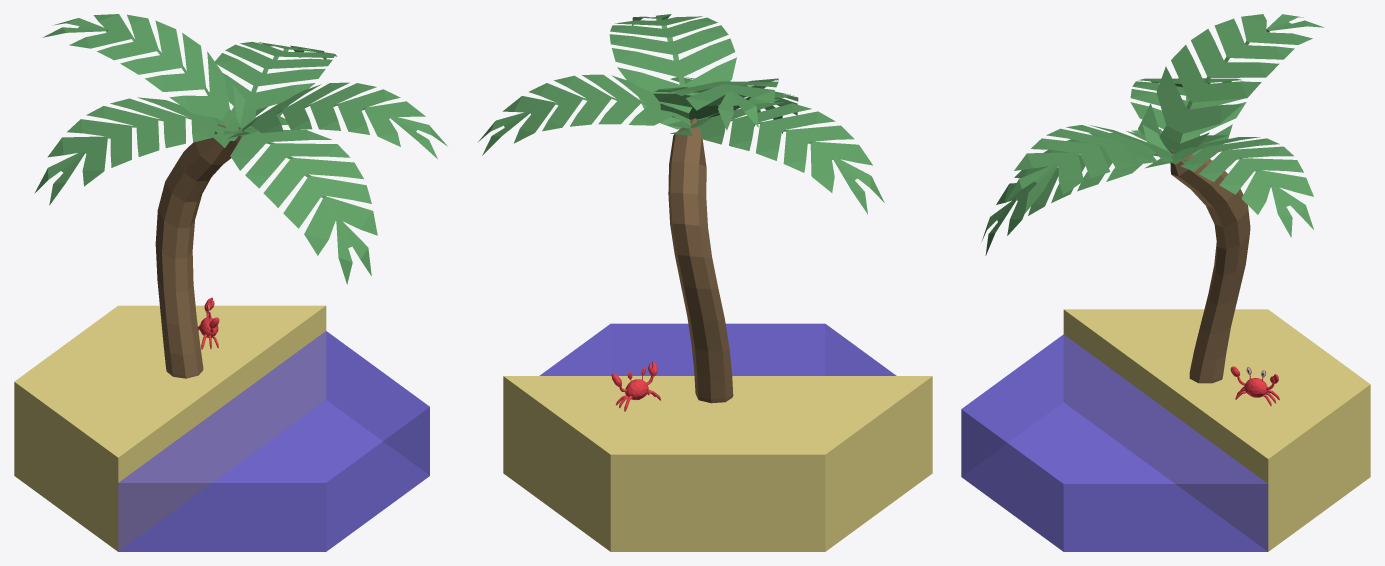
File: HexCell_Beach_1.glb
3 views of the same model, side by side, from view 1: azimuth 30°, elevation 25°; view 2: azimuth 150°, elevation 25°; view 3: azimuth 270°, elevation 25° (orthographic). The views are drawn at different scales.
Visible parts, largest first — view 1: HexCell_Beach_Connect_3; view 2: HexCell_Beach_Connect_3; view 3: HexCell_Beach_Connect_3.
Boxes of the visible parts, <box> form: HexCell_Beach_Connect_3: <box>14,14,447,551</box>; HexCell_Beach_Connect_3: <box>478,14,932,551</box>; HexCell_Beach_Connect_3: <box>961,14,1370,551</box>.
Size of the model in its own units: 1.87 by 2.25 by 2.
